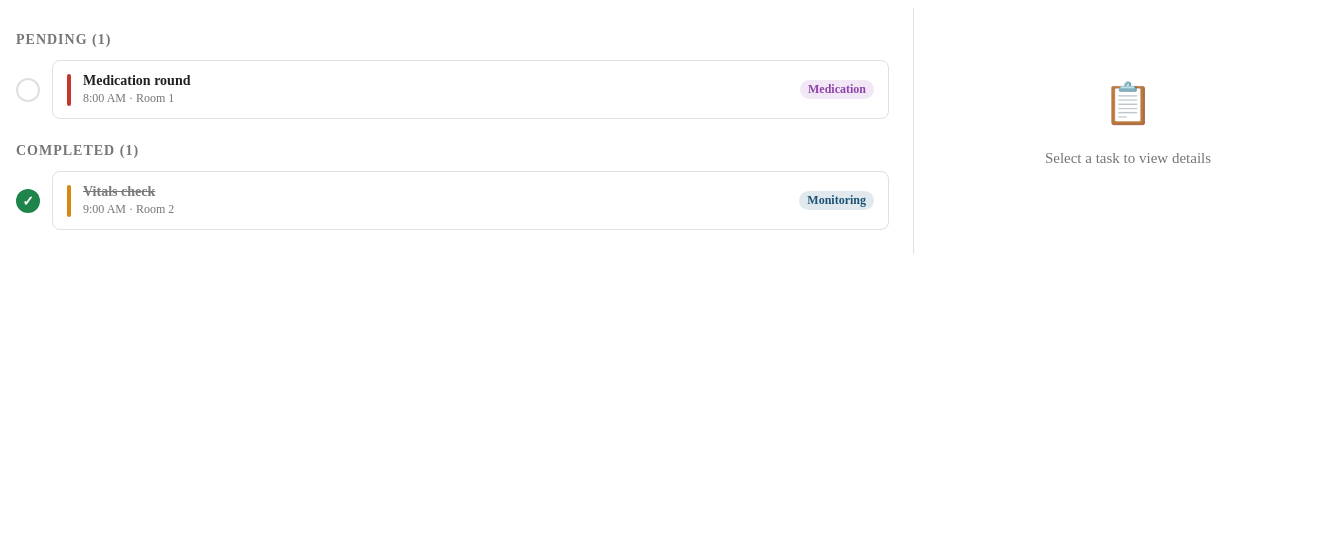
TasksScreen › clicking a task card shows detail panel
The width and height of the screenshot is (1335, 546).
What coordinates should you click on to do the following:
click the button "Medication round 8:00 AM · Room 1 Medication"
I would click on:
 (137, 80)
Its box is [52,60,889,119].
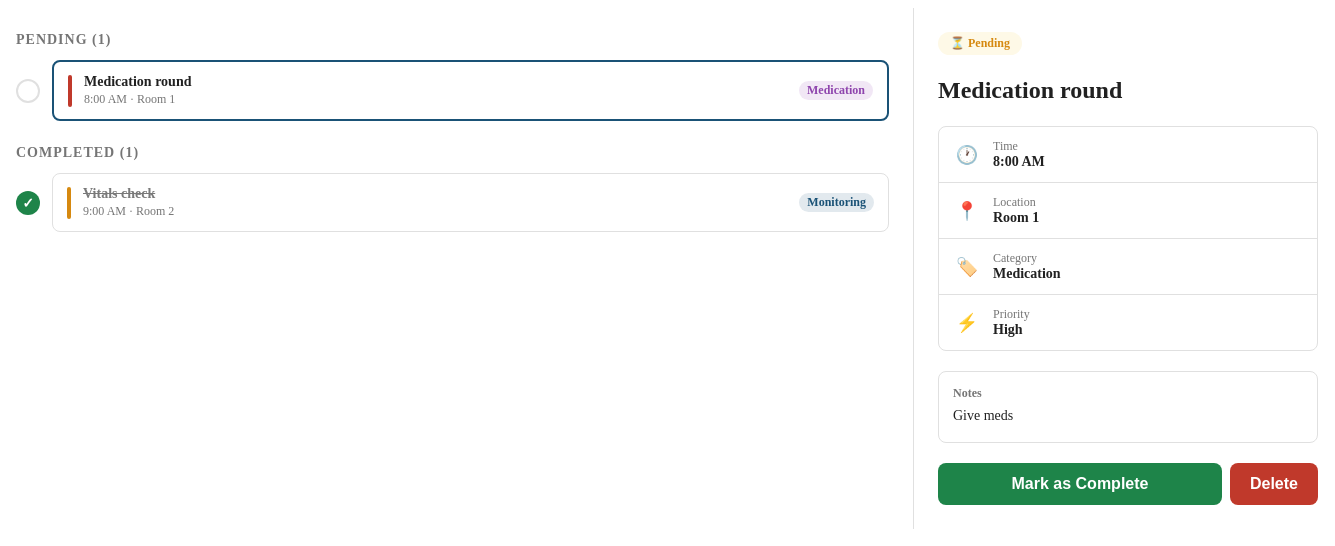
Now the button with aria-label "delete task" is shown, box [1230,463,1318,505]
